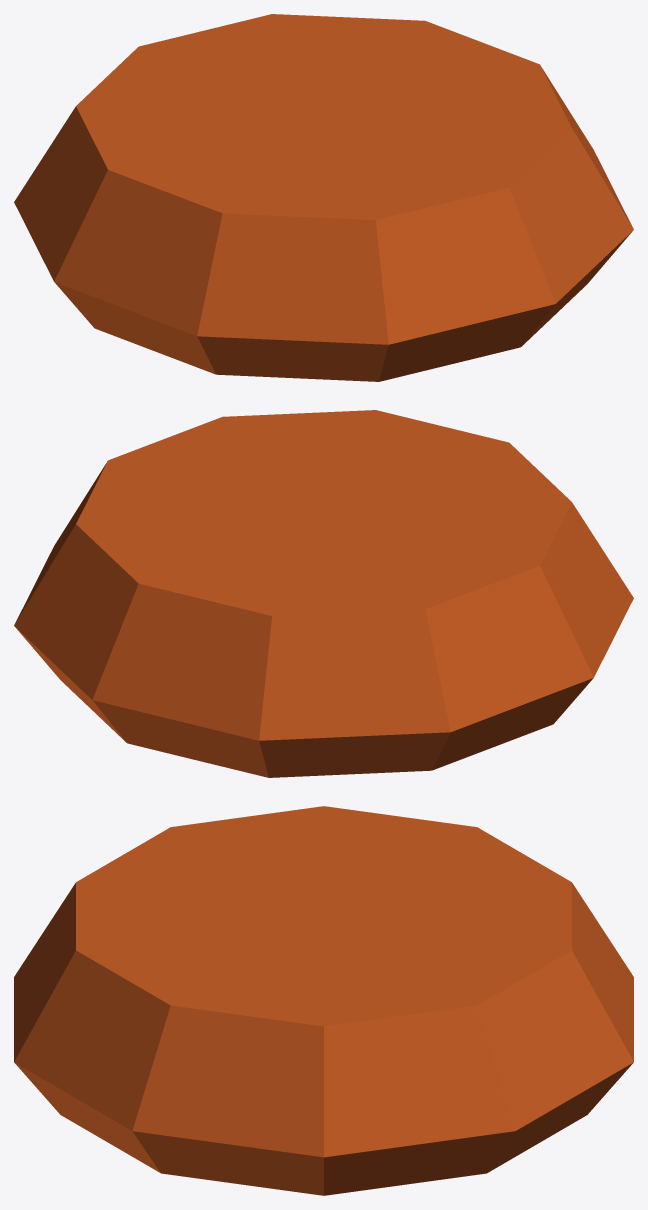
Rendered from dog_bowl.glb.
3 views of the same model, one above another, from view 1: azimuth 30°, elevation 25°; view 2: azimuth 150°, elevation 25°; view 3: azimuth 270°, elevation 25° (orthographic). The views are drawn at different scales.
Parts seen in each view (by area): view 1: dog_bowl; view 2: dog_bowl; view 3: dog_bowl.
Boxes of the visible parts, x1,y1,x2,y2 form: dog_bowl: [14, 14, 633, 381]; dog_bowl: [14, 410, 633, 777]; dog_bowl: [14, 806, 633, 1195].
Size of the model in its own units: 0.4 by 0.11 by 0.3804.
